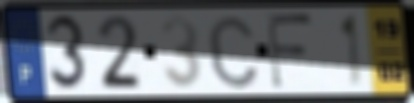1: (338, 10, 363, 91)
2: (95, 13, 143, 92)
3: (43, 12, 92, 94), (160, 11, 202, 93)
C: (205, 12, 262, 92)
F: (263, 10, 316, 92)
